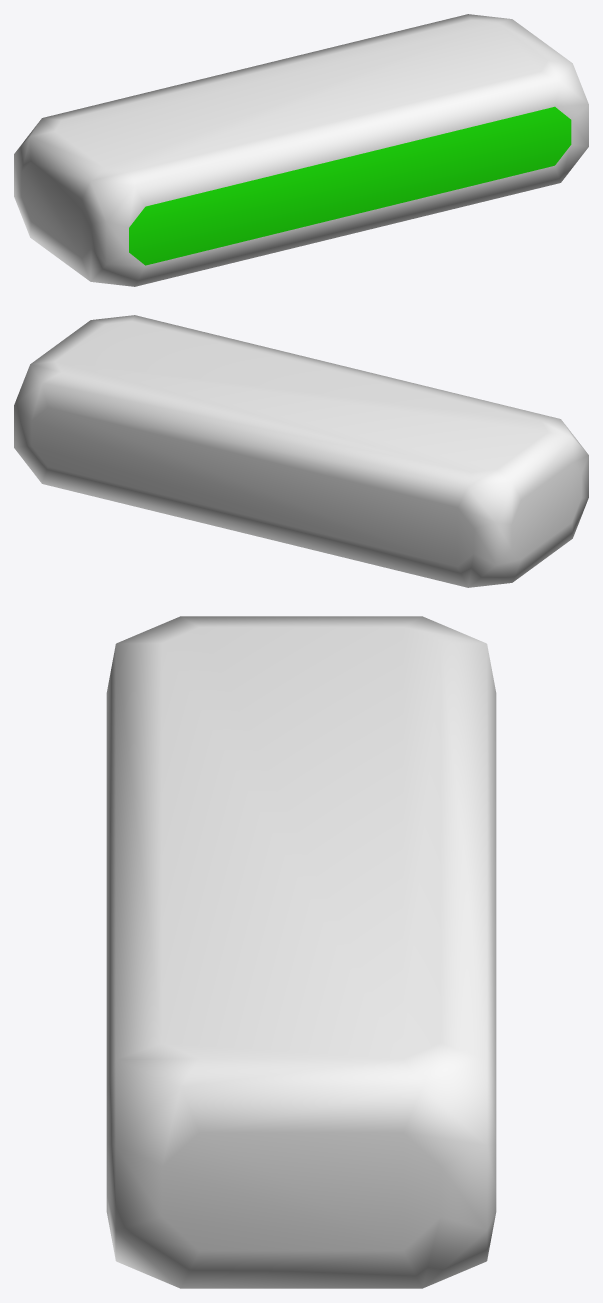
Rendered from CPI_D_FBX_15_Stick_A.fbx.
3 views of the same model, one above another, from view 1: azimuth 30°, elevation 25°; view 2: azimuth 150°, elevation 25°; view 3: azimuth 270°, elevation 25° (orthographic). The views are drawn at different scales.
Parts seen in each view (by area): view 1: CPI_D_FBX_15_Stick_A; view 2: CPI_D_FBX_15_Stick_A; view 3: CPI_D_FBX_15_Stick_A.
Boxes of the visible parts, box(x1,y1,x2,y2) form: CPI_D_FBX_15_Stick_A: box(14, 14, 588, 286); CPI_D_FBX_15_Stick_A: box(14, 315, 588, 587); CPI_D_FBX_15_Stick_A: box(106, 616, 496, 1288).
Size of the model in its own units: 3.05 by 0.65 by 1.05.
